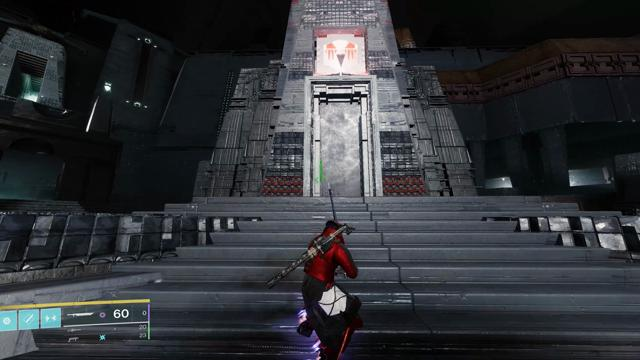give: (323, 39, 358, 70)
